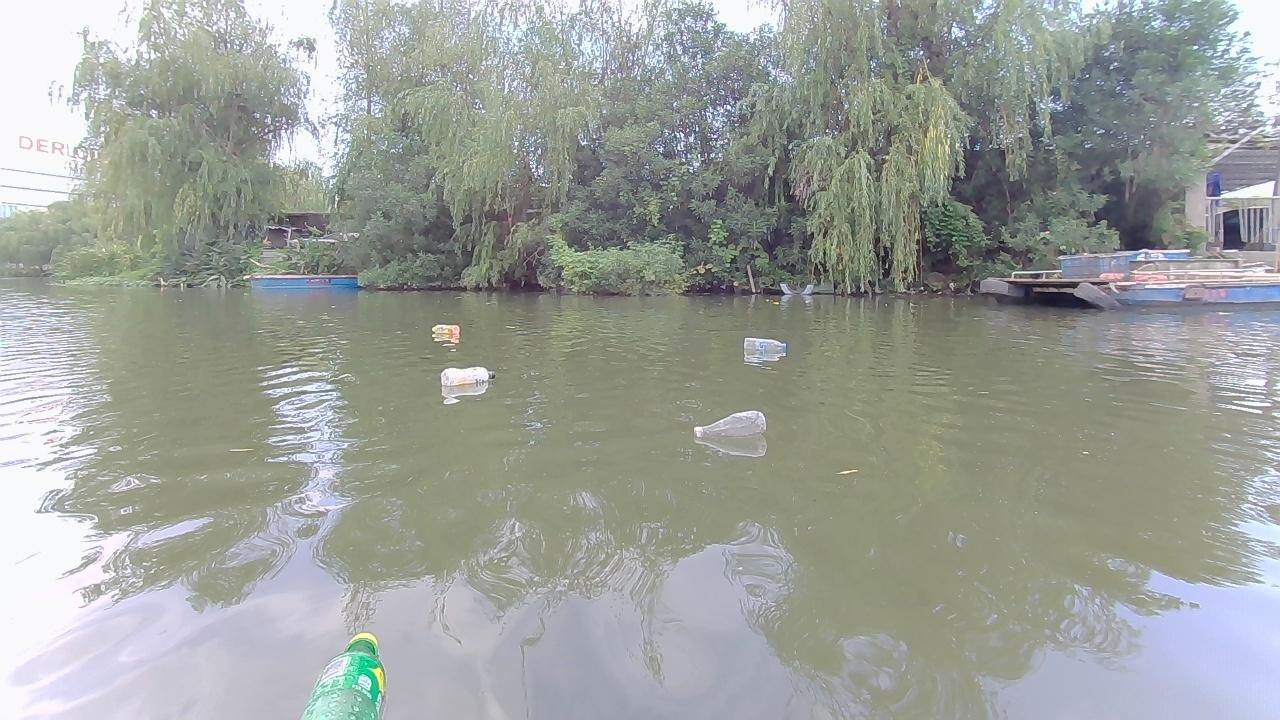bottle: (295, 628, 385, 719), (686, 403, 774, 443), (741, 332, 791, 355), (440, 367, 495, 386), (431, 322, 459, 340)
